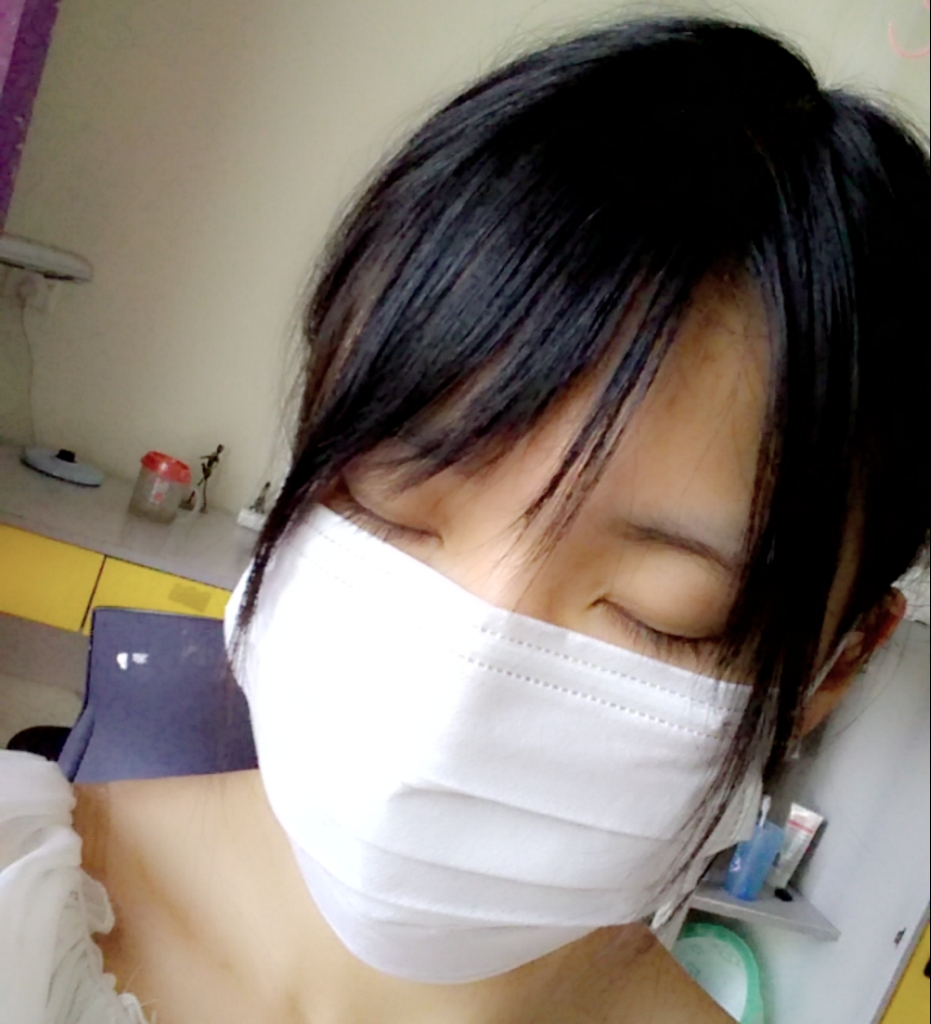face_mask: (263, 216, 797, 957)
